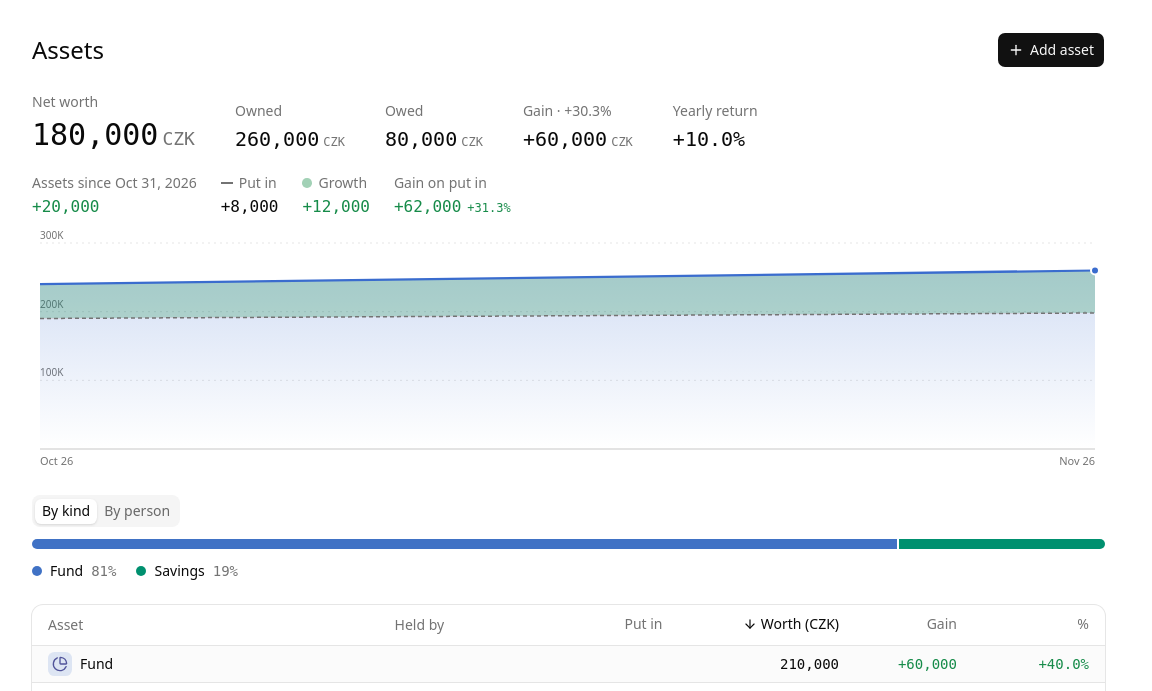
Test case: can optionally group the assets by person instead of kind
This screenshot has width=1152, height=691.
Expected: the text "Net worth" is shown, [32,92,98,111]
// Radix tabs activate on mouse down, not click.
Press the mouse on the tab "By person": (137, 511) [97,498,177,524]
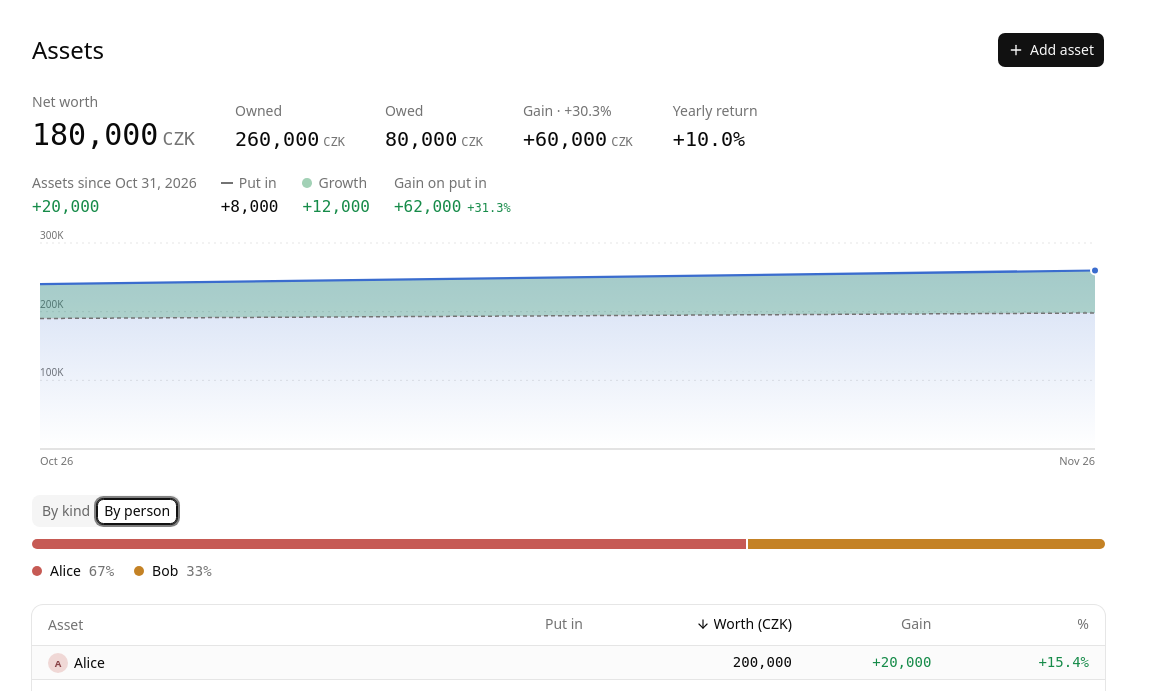
Now the element named "Net worth by person" is shown, box [32,539,1105,581]
Now the button "Held by" is gone
// Back to kinds.
Press the mouse on the tab "By kind": (66, 511) [35,498,97,524]
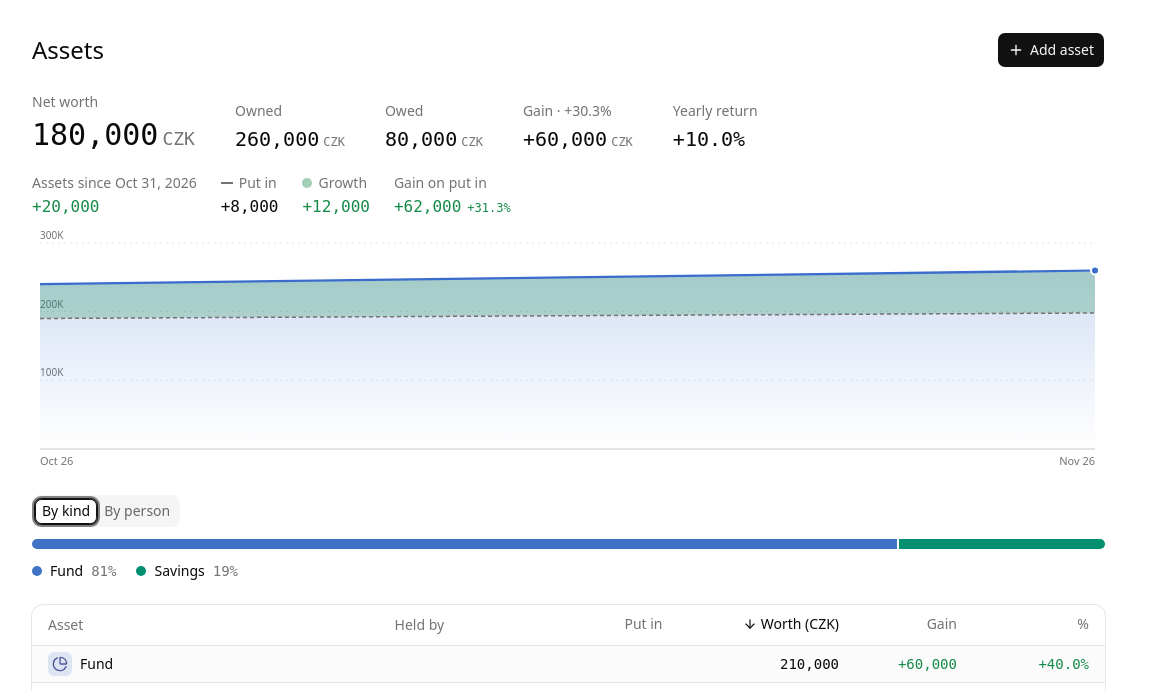
Now the number of buttons "Held by" is 2
